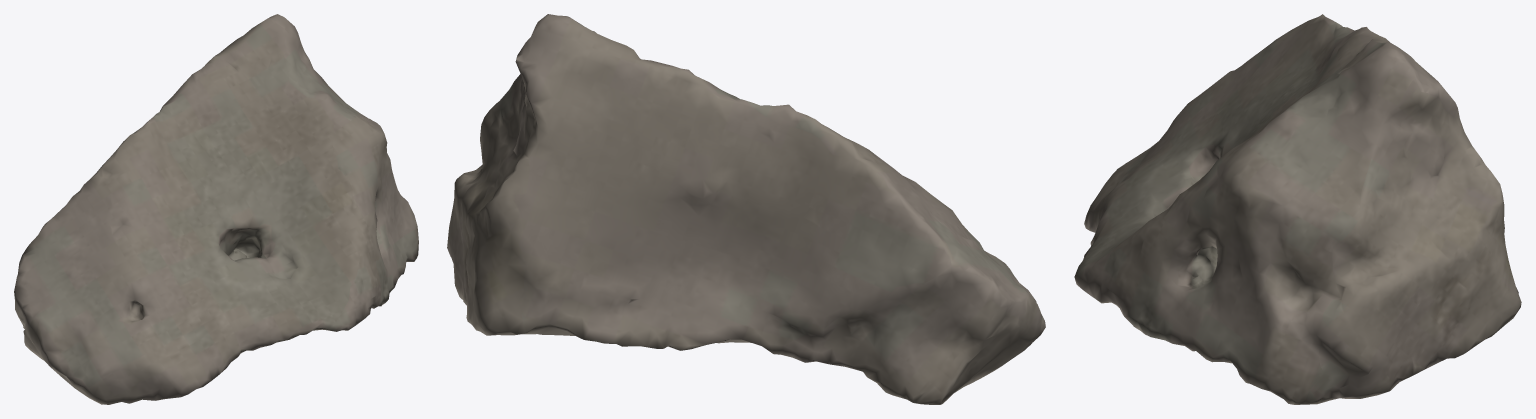
File: moon_rock_07.glb
3 renders of one model, left to right at view 1: azimuth 30°, elevation 25°; view 2: azimuth 150°, elevation 25°; view 3: azimuth 270°, elevation 25°, orthographic. The views are drawn at different scales.
Visible parts, largest first — view 1: moon_rock_07_LOD0; view 2: moon_rock_07_LOD0; view 3: moon_rock_07_LOD0.
Boxes of the visible parts, x1,y1,x2,y2 form: moon_rock_07_LOD0: [14, 14, 418, 404]; moon_rock_07_LOD0: [447, 14, 1045, 404]; moon_rock_07_LOD0: [1074, 14, 1521, 404].
Bounding box in the file's own units: 0.0968 × 0.0603 × 0.0738.
Materials: 1 (1 with a texture image).
